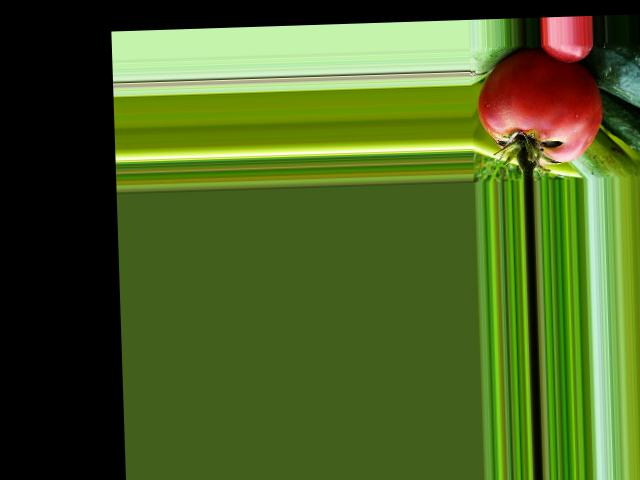tomato: (476, 45, 603, 165)
